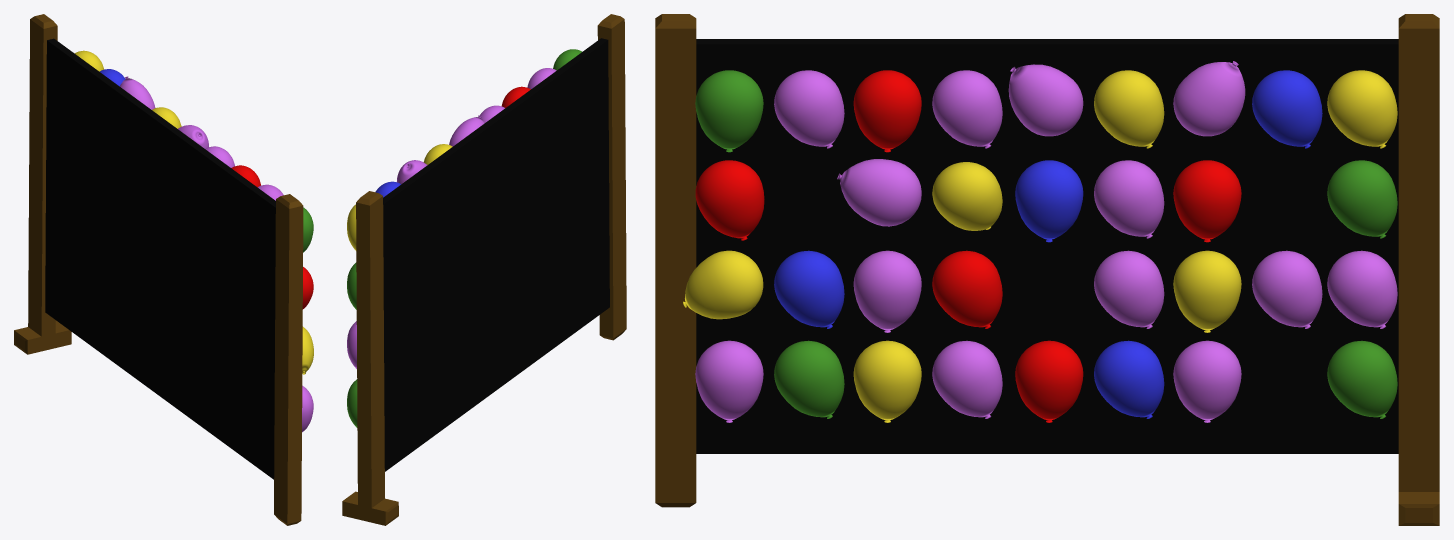
Rendered from juego_globos.glb.
The picture shows the model from 3 angles, left to right: view 1: azimuth 30°, elevation 25°; view 2: azimuth 150°, elevation 25°; view 3: azimuth 270°, elevation 25°; orthographic projection. The views are drawn at different scales.
Visible parts, largest first — view 1: Cube.001, Cube, Cube.002, Sphere.006, Sphere.018, Sphere.027, Sphere.004, Sphere; view 2: Cube.001, Cube, Cube.002, Sphere.004, Sphere.035, Sphere.006, Sphere.017, Sphere.026, Sphere.008; view 3: Cube.001, Cube, Sphere.011, Sphere.004, Sphere.018, Sphere.006, Sphere.030, Sphere.021, Sphere.035, Sphere.005, Sphere.007, Sphere.026 (+23 smaller).
Boxes of the visible parts, x1,y1,x2,y2 form: Cube.001: (45, 38, 275, 479); Cube: (28, 14, 303, 525); Cube.002: (14, 320, 71, 354); Sphere.006: (120, 76, 155, 109); Sphere.018: (302, 326, 313, 374); Sphere.027: (302, 385, 313, 432); Sphere.004: (178, 125, 208, 148); Sphere: (303, 207, 313, 252); Cube.001: (383, 38, 609, 471); Cube: (356, 14, 626, 515); Cube.002: (342, 491, 398, 525); Sphere.004: (449, 115, 484, 146); Sphere.035: (347, 379, 357, 427); Sphere.006: (397, 160, 427, 184); Sphere.017: (347, 262, 356, 309); Sphere.026: (347, 321, 356, 368); Sphere.008: (347, 204, 356, 250); Cube.001: (696, 39, 1398, 453); Cube: (655, 14, 1439, 507); Sphere.011: (837, 159, 921, 226); Sphere.004: (1008, 64, 1083, 136); Sphere.018: (683, 250, 763, 319); Sphere.006: (1173, 61, 1245, 136); Sphere.030: (932, 340, 1002, 418); Sphere.021: (932, 250, 1002, 328); Sphere.035: (1327, 340, 1397, 418); Sphere.005: (1094, 70, 1164, 148); Sphere.007: (1252, 70, 1322, 148); Sphere.026: (1327, 250, 1397, 328).
Size of the model in its own units: 1.12 by 5.62 by 8.1.
